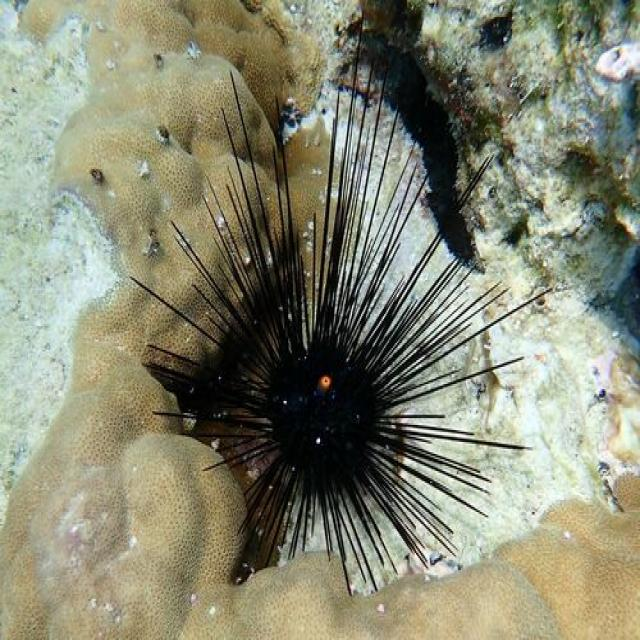Urchin: (130, 14, 556, 597)
